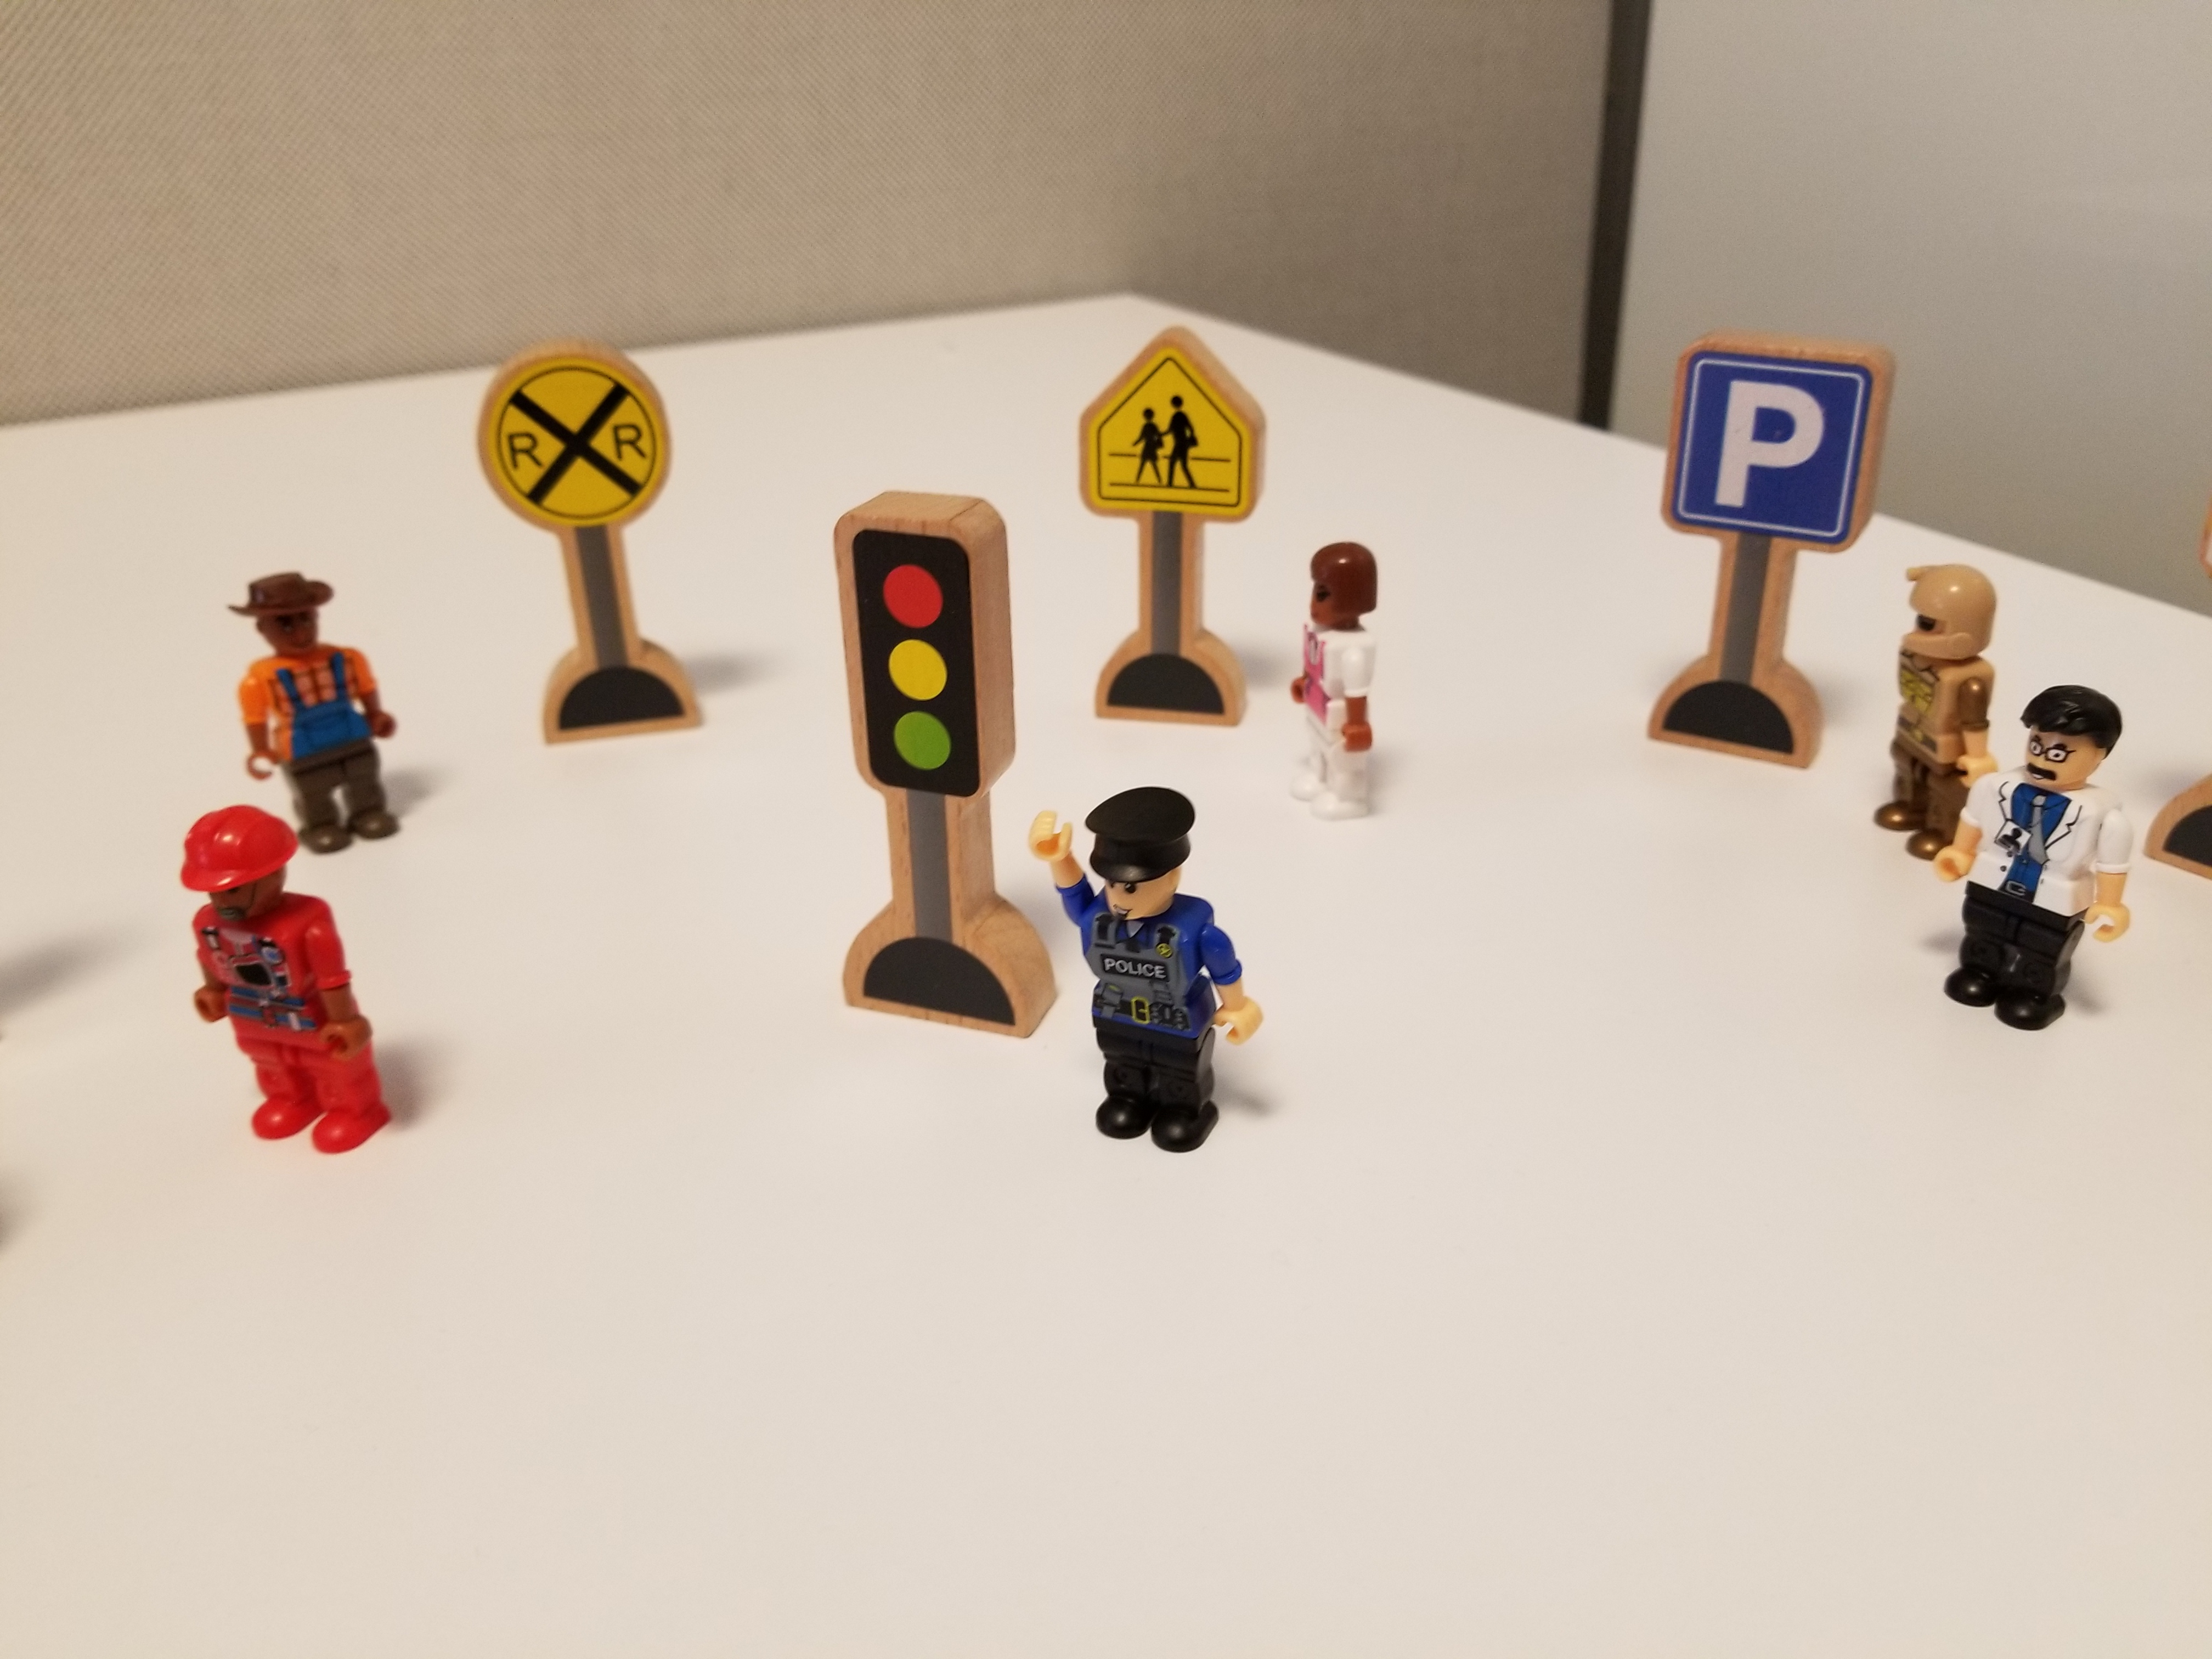Parking: (1654, 308, 1877, 789)
Pedestrian crossing: (1065, 302, 1291, 741)
Railroad Crossing: (466, 357, 714, 774)
Traffic Light: (791, 433, 1059, 1048)
person: (122, 782, 409, 1188), (1030, 765, 1276, 1190), (1970, 662, 2145, 1074), (192, 552, 427, 828), (1276, 528, 1412, 833), (1882, 556, 1994, 877)
